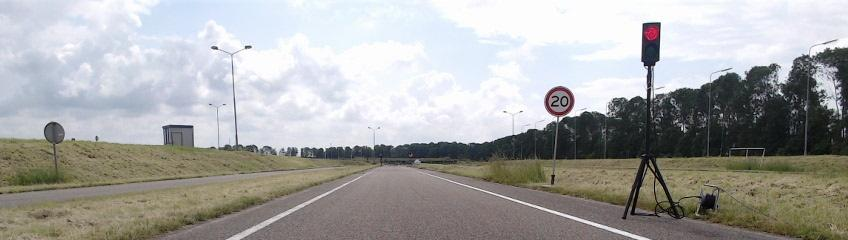Speed-limit-20km-h-: (544, 86, 575, 117)
TrafficLight-red: (642, 22, 660, 63)
